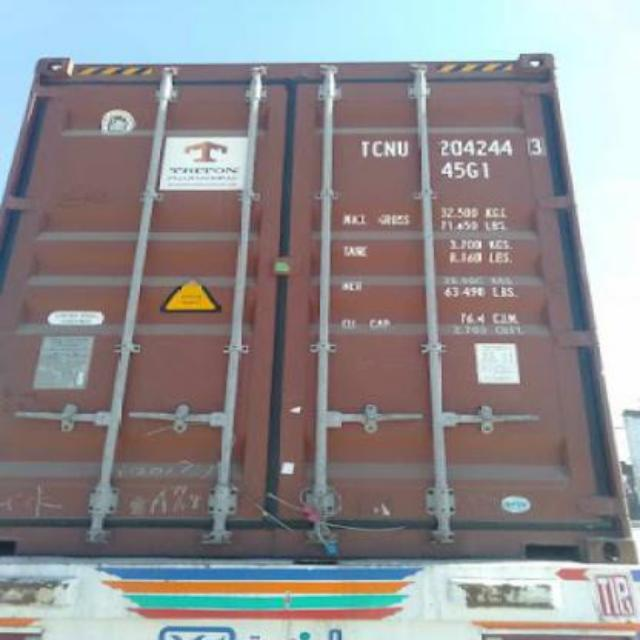0: (448, 138, 464, 158)
2: (476, 138, 489, 158), (436, 139, 449, 157)
3: (526, 138, 546, 156)
4: (500, 138, 516, 158), (464, 138, 478, 156), (488, 136, 500, 156)
C: (372, 139, 384, 159)
N: (384, 139, 396, 157)
T: (358, 139, 372, 157)
U: (396, 139, 412, 157)
